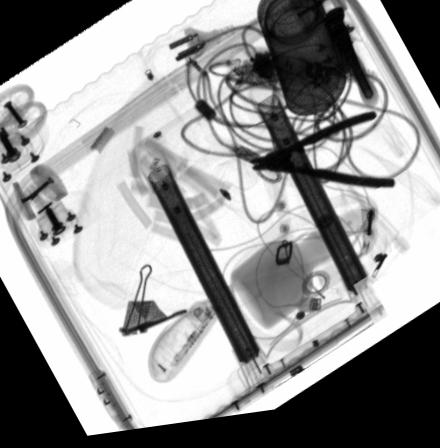Hammer: (324, 16, 378, 119)
Pliers: (250, 122, 395, 198)
